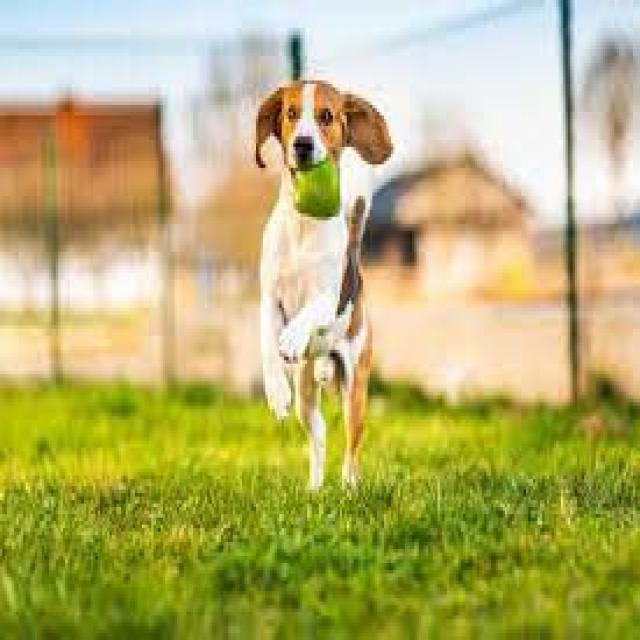Dog: (250, 72, 394, 508)
